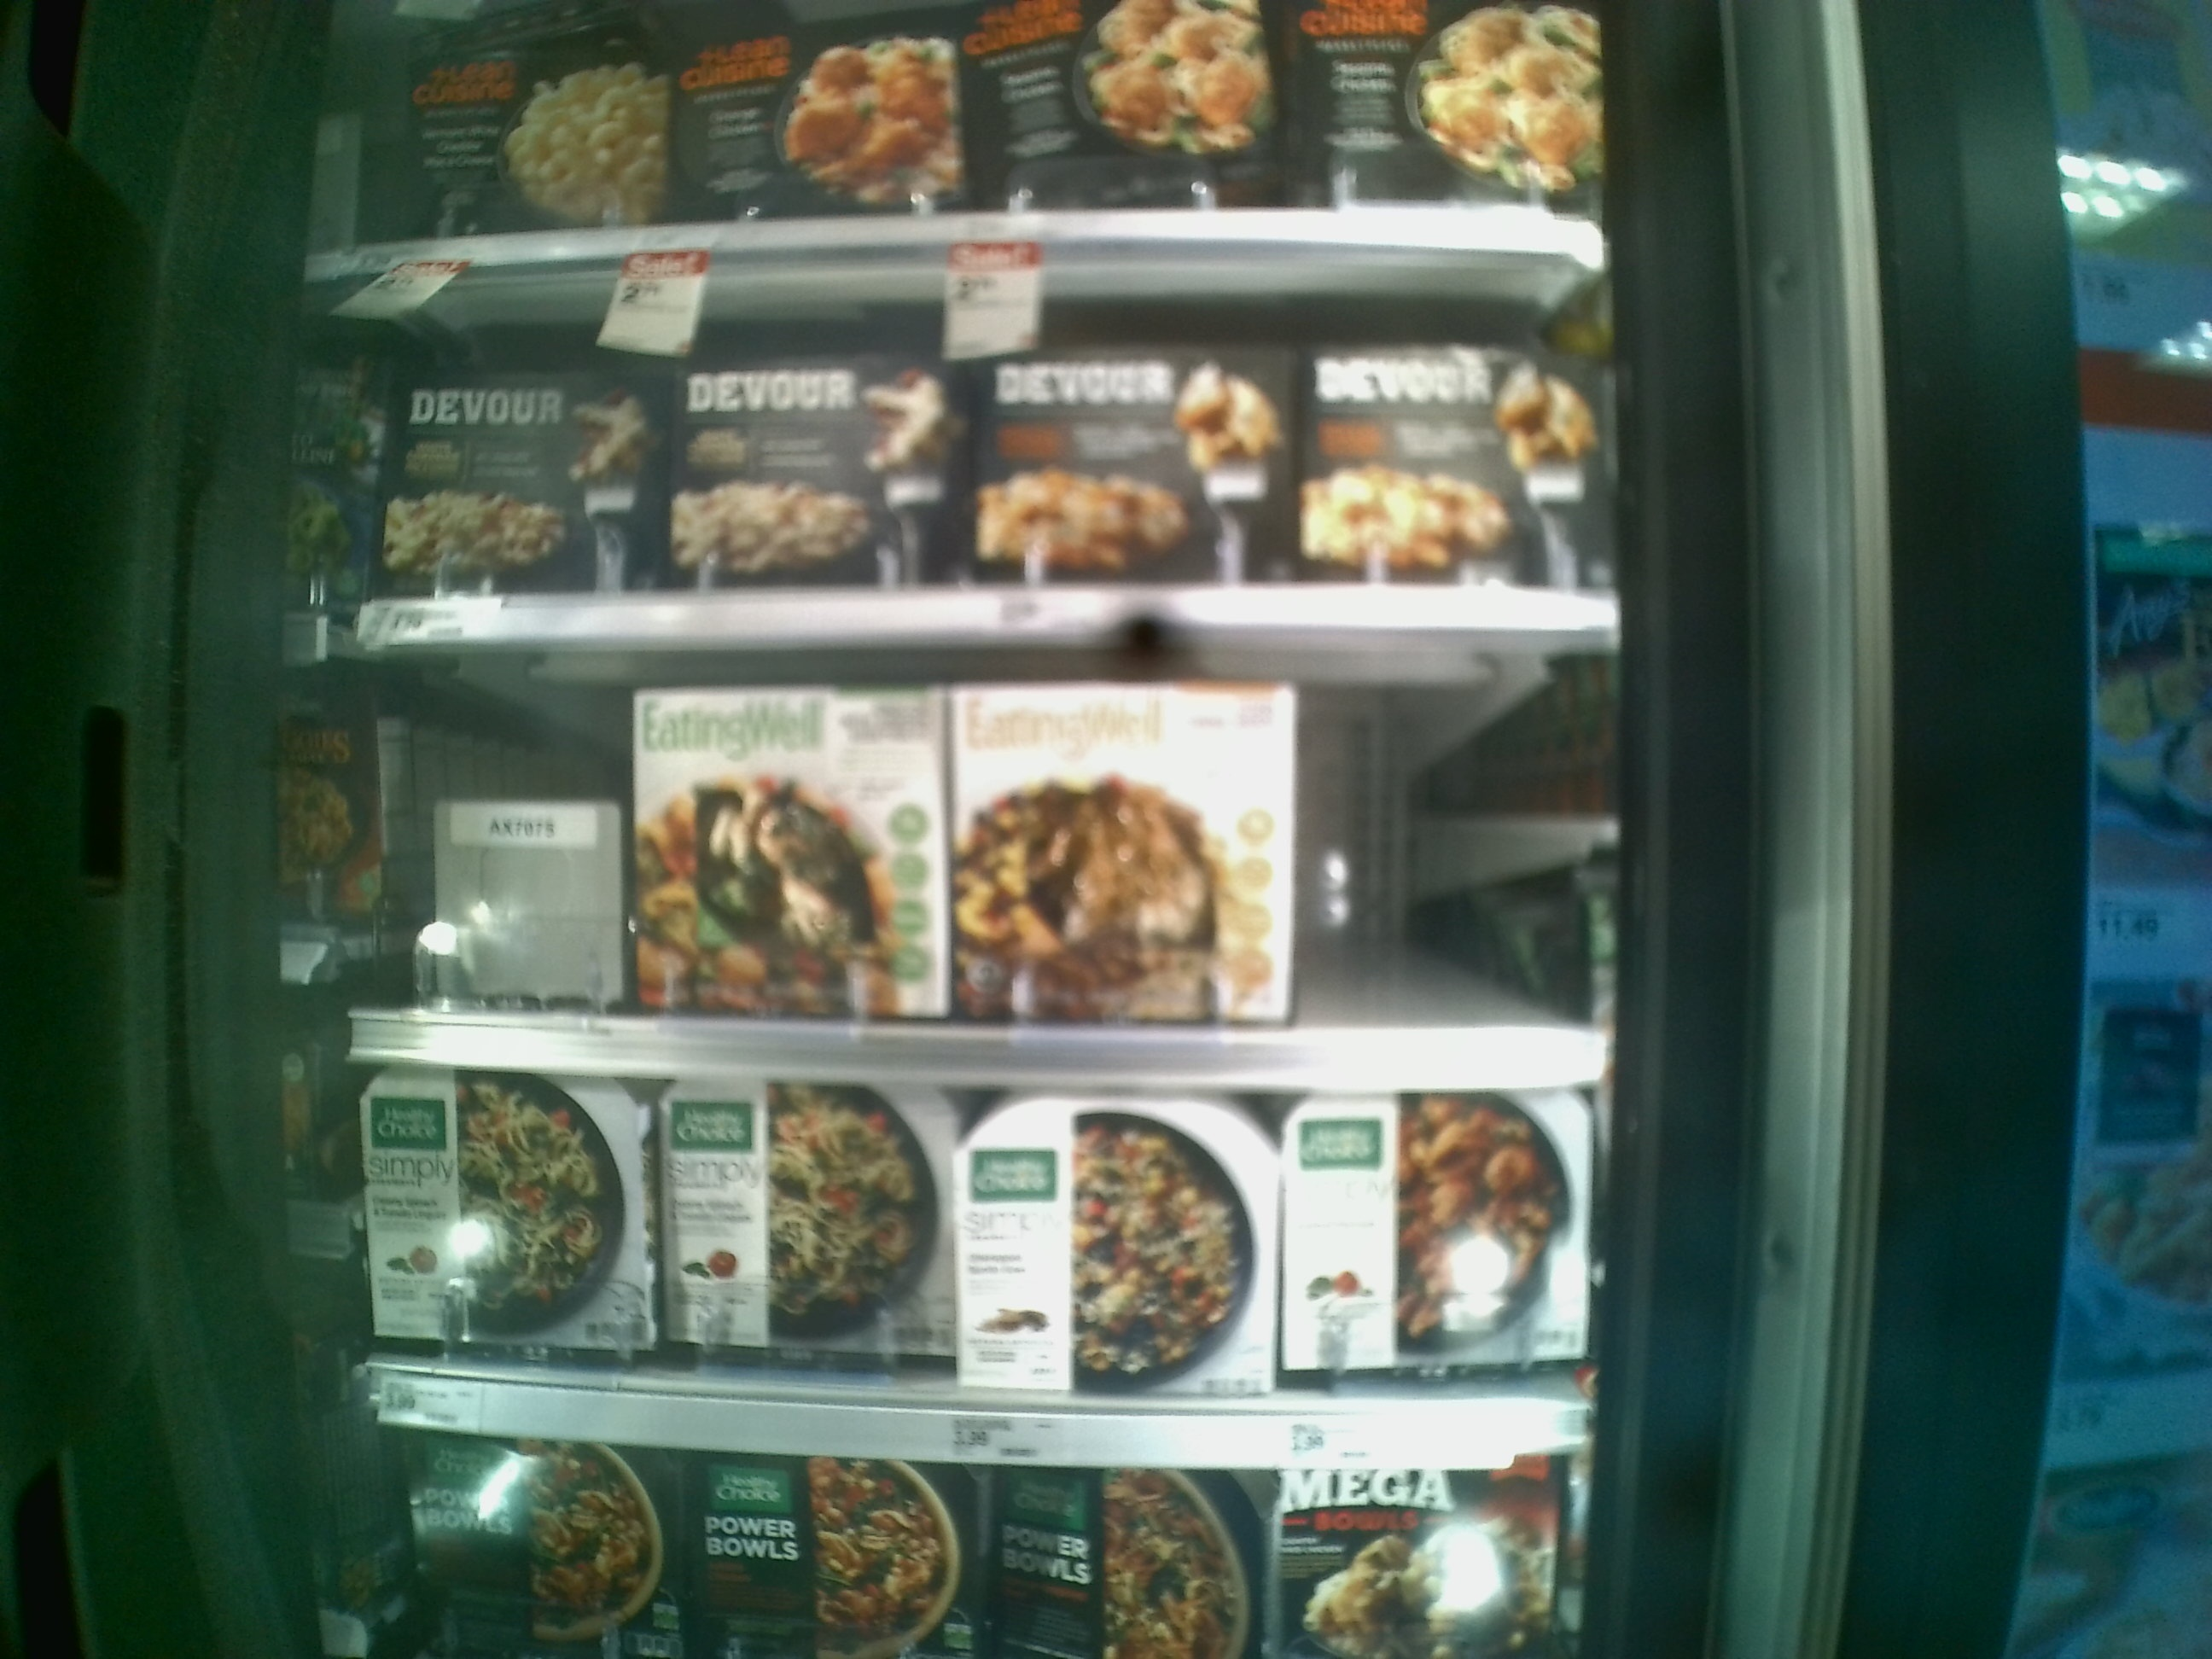shelf: (340, 636, 1618, 1094), (298, 237, 1604, 641), (354, 1054, 1604, 1469)
